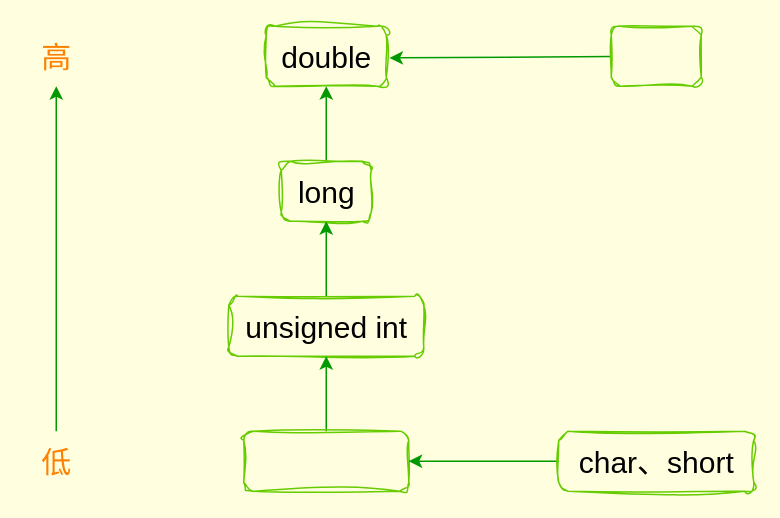
Image size: 780x518. Some labels were removed from this diagram. The shapes that lost their labels are listed below. From the top down, each one's centre as x and y in pixels, then its label:
point (655, 55): float
point (325, 460): signed int
